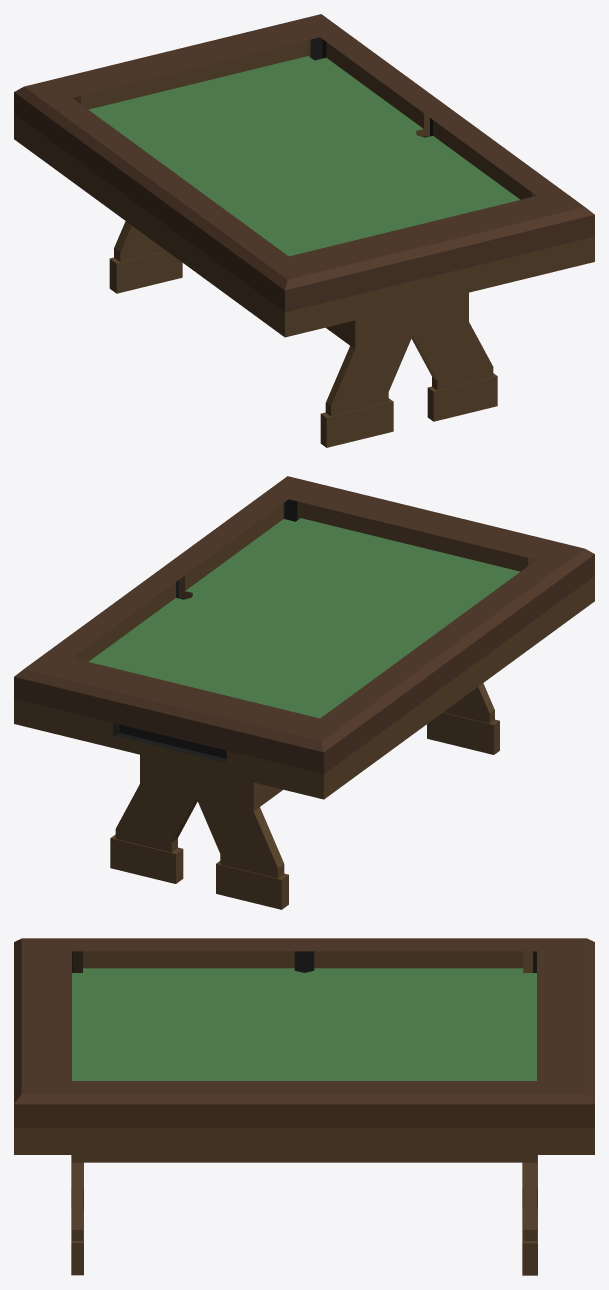
Rendered from PoolTable.fbx.
3 renders of one model, top to bottom at view 1: azimuth 30°, elevation 25°; view 2: azimuth 150°, elevation 25°; view 3: azimuth 270°, elevation 25°, orthographic. The views are drawn at different scales.
Parts seen in each view (by area): view 1: Cube; view 2: Cube; view 3: Cube.
Part boxes in pixels (x1,y1,x2,y2): Cube: [14, 14, 594, 447]; Cube: [14, 476, 594, 909]; Cube: [14, 938, 594, 1275].
Size of the model in its own units: 509 by 314 by 770.
